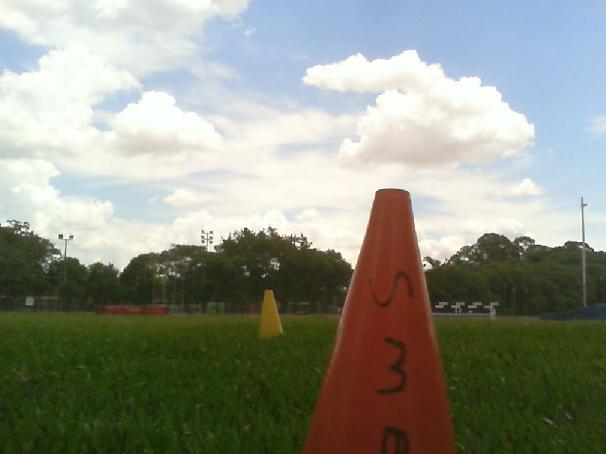0 cone: (299, 187, 456, 454), (258, 292, 283, 340)
